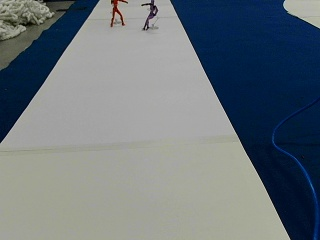pedestrian: (140, 0, 157, 30), (110, 0, 128, 26)
